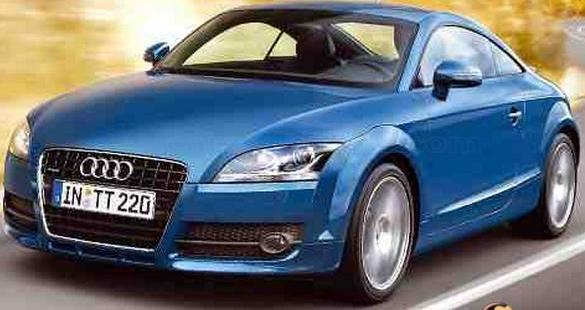front_view: (1, 108, 351, 274)
headlight: (204, 130, 346, 187)
side_glass: (403, 24, 525, 87)
